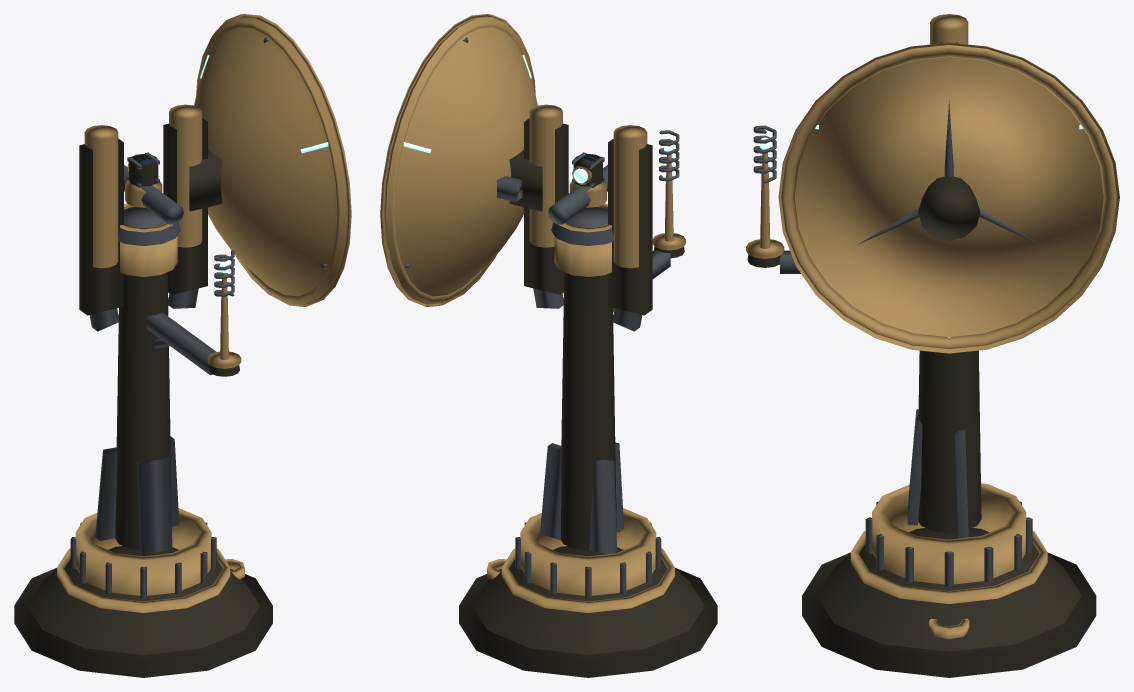
The model's file is antenna_mk1.glb.
The picture shows the model from 3 angles, left to right: view 1: azimuth 30°, elevation 25°; view 2: azimuth 150°, elevation 25°; view 3: azimuth 270°, elevation 25°; orthographic projection. The views are drawn at different scales.
Parts seen in each view (by area): view 1: Antenna_Elevation, Antenna_Azimuth, Antenna_Base, Antenna_Rod, Antenna_Probe; view 2: Antenna_Elevation, Antenna_Azimuth, Antenna_Base, Antenna_Rod, Antenna_Probe; view 3: Antenna_Elevation, Antenna_Base, Antenna_Azimuth, Antenna_Rod.
Part boxes in pixels (left/top/right/bottom): Antenna_Elevation: left=79, top=14, right=351, bottom=331; Antenna_Azimuth: left=70, top=203, right=216, bottom=598; Antenna_Base: left=14, top=546, right=272, bottom=677; Antenna_Rod: left=207, top=249, right=241, bottom=376; Antenna_Probe: left=127, top=152, right=159, bottom=187; Antenna_Elevation: left=380, top=14, right=652, bottom=331; Antenna_Azimuth: left=515, top=203, right=670, bottom=598; Antenna_Base: left=459, top=546, right=717, bottom=677; Antenna_Rod: left=652, top=130, right=685, bottom=258; Antenna_Probe: left=572, top=152, right=604, bottom=187; Antenna_Elevation: left=778, top=14, right=1119, bottom=353; Antenna_Base: left=802, top=528, right=1096, bottom=677; Antenna_Azimuth: left=780, top=250, right=1032, bottom=587; Antenna_Rod: left=746, top=125, right=784, bottom=267.
Size of the model in its own units: 0.96 by 1.93 by 1.02.
